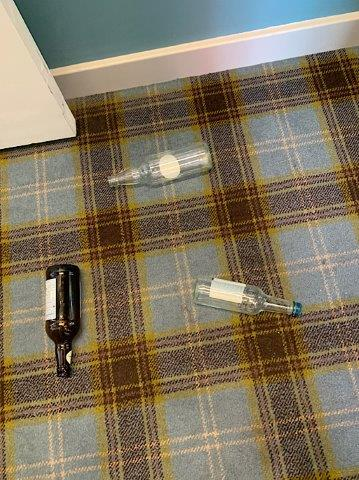botolkaca: (109, 143, 211, 183), (195, 277, 302, 315), (47, 264, 81, 376)
